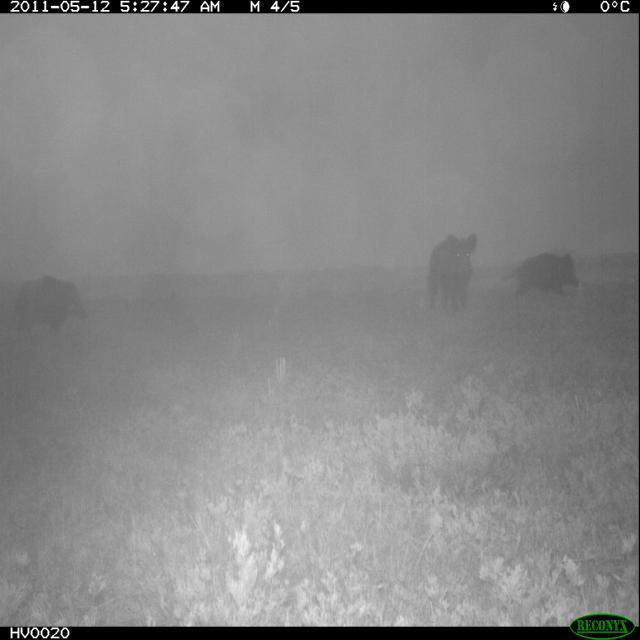boar: (0, 261, 101, 354), (417, 204, 490, 332), (498, 232, 584, 317)
